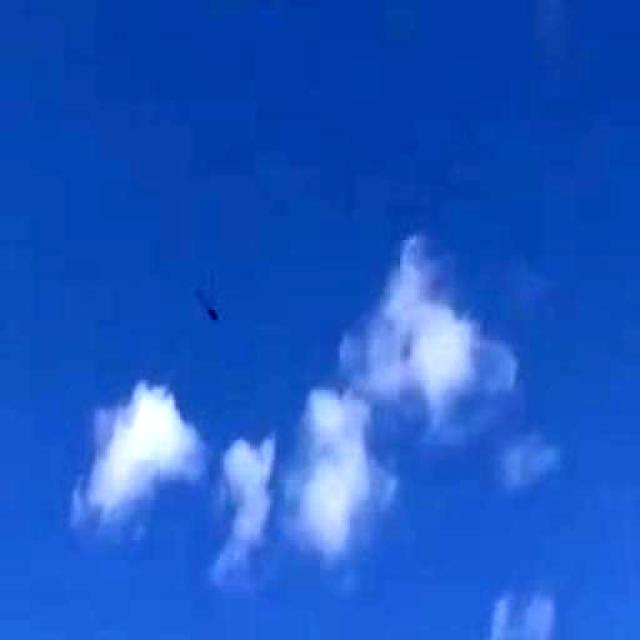drone: (170, 268, 236, 341)
